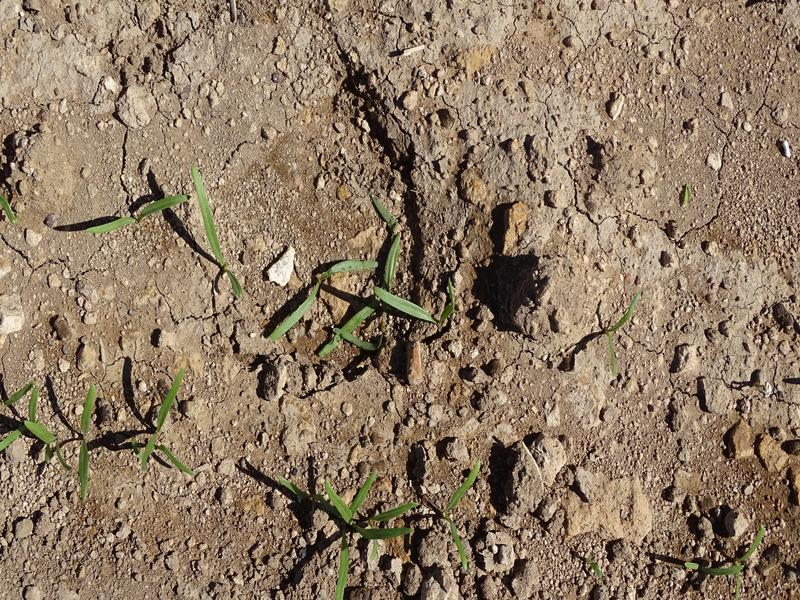Espinaca: (299, 234, 435, 354), (302, 467, 419, 593), (2, 380, 113, 487), (190, 165, 245, 301), (133, 364, 192, 480), (81, 187, 188, 240), (444, 461, 482, 573)
